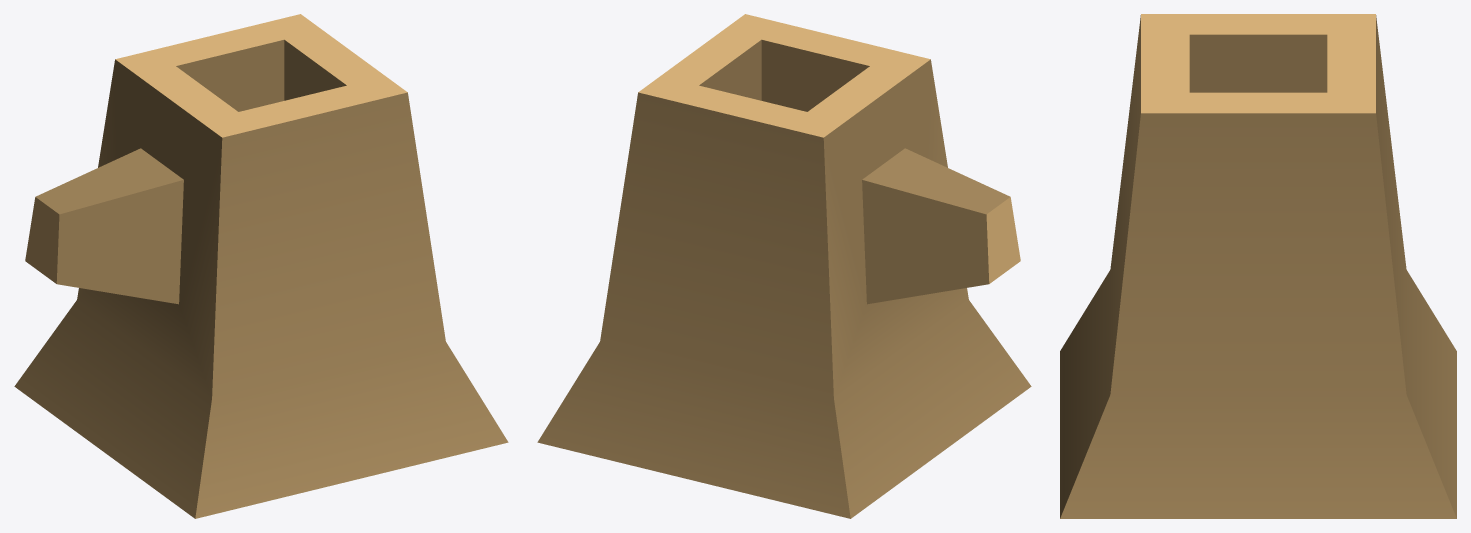
File: Trunk_Alt_01.fbx
The picture shows the model from 3 angles, left to right: view 1: azimuth 30°, elevation 25°; view 2: azimuth 150°, elevation 25°; view 3: azimuth 270°, elevation 25°; orthographic projection. The views are drawn at different scales.
Visible parts, largest first — view 1: Mesh1_Trunk_Alt Model; view 2: Mesh1_Trunk_Alt Model; view 3: Mesh1_Trunk_Alt Model.
Boxes of the visible parts, bbox=[...] form: Mesh1_Trunk_Alt Model: bbox=[14, 14, 508, 518]; Mesh1_Trunk_Alt Model: bbox=[537, 14, 1031, 518]; Mesh1_Trunk_Alt Model: bbox=[1060, 14, 1456, 518].
Size of the model in its own units: 0.9675 by 0.83 by 0.8037.
